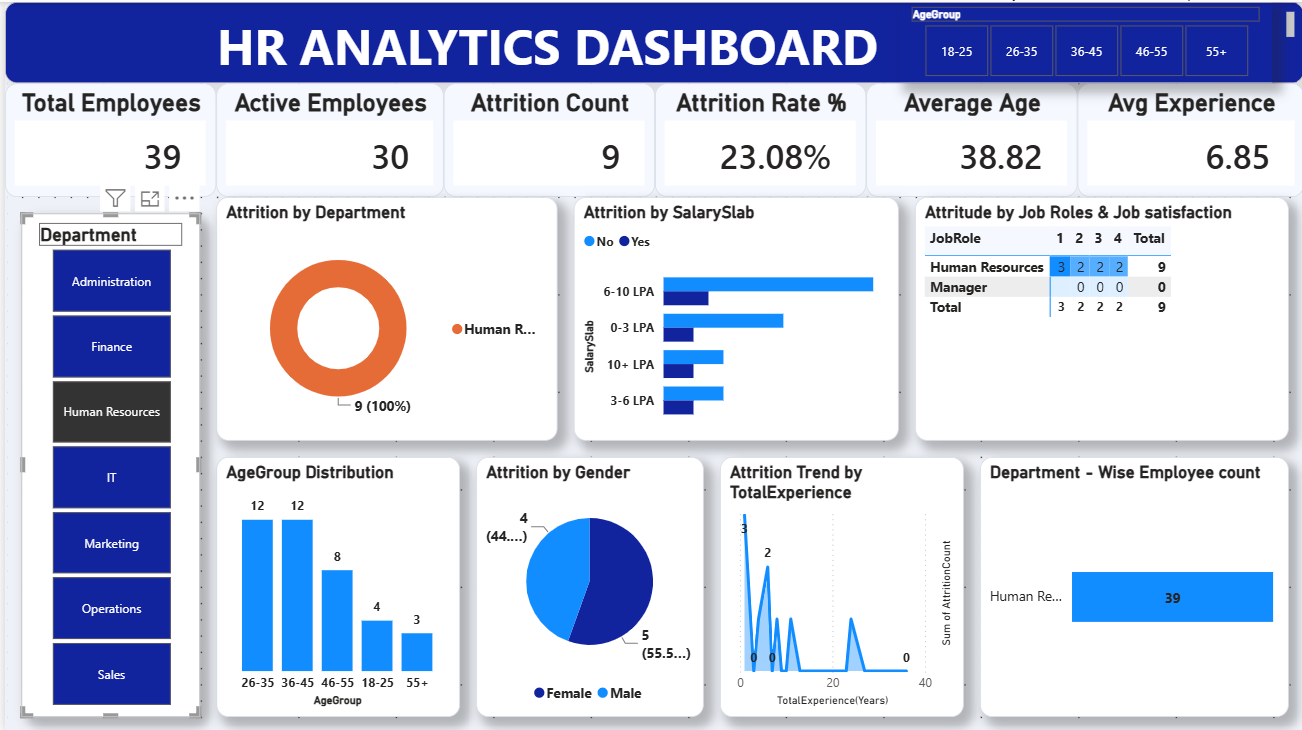

What the dashboard file says about the page in this screenshot:
{"tool":"powerbi","page":{"name":"Page 1","canvas":[1280,720],"ordinal":0},"visuals":[{"type":"textbox","box":[0,0,1280,80],"z":0},{"type":"cardVisual","title":"Total Employees","fields":{"Data":["CountNonNull(HR_Analytics-4.EmpID)"]},"box":[0,80,208,112],"z":1000},{"type":"cardVisual","title":"Active Employees","fields":{"Data":["CountNonNull(HR_Analytics-4.EmployeeCount)"]},"box":[208,80,224,112],"z":2000},{"type":"cardVisual","title":"Attrition Count","fields":{"Data":["Sum(HR_Analytics-4.AttritionCount)"]},"box":[432,80,208,112],"z":3000},{"type":"cardVisual","title":"Attrition Rate %","fields":{"Data":["HR_Analytics-4.Attrition Rate %"]},"box":[640,80,208,112],"z":4000},{"type":"cardVisual","title":"Average Age","fields":{"Data":["Avg(HR_Analytics-4.Age)"]},"box":[848,80,208,112],"z":5000},{"type":"cardVisual","title":"Avg Experience","fields":{"Data":["Avg(HR_Analytics-4.YearsatCompany)"]},"box":[1056,80,224,112],"z":6000},{"type":"donutChart","title":"Attrition by Department","fields":{"Category":["HR_Analytics-4.Department"],"Y":["Sum(HR_Analytics-4.AttritionCount)"]},"box":[208,192,336,240],"z":7000},{"type":"clusteredBarChart","title":"Attrition by SalarySlab","fields":{"Category":["HR_Analytics-4.SalarySlab"],"Y":["CountNonNull(HR_Analytics-4.EmpID)"],"Series":["HR_Analytics-4.Attrition"]},"box":[560,192,320,240],"z":8000},{"type":"pivotTable","title":"Attritude by Job Roles & Job satisfaction","fields":{"Rows":["HR_Analytics-4.JobRole"],"Values":["Sum(HR_Analytics-4.AttritionCount)"],"Columns":["HR_Analytics-4.JobSatisfaction"]},"box":[896,192,368,240],"z":9000},{"type":"columnChart","title":"AgeGroup Distribution","fields":{"Category":["HR_Analytics-4.AgeGroup"],"Y":["Sum(HR_Analytics-4.EmployeeCount)"]},"box":[208,448,240,256],"z":10000},{"type":"pieChart","title":" Attrition by Gender","fields":{"Category":["HR_Analytics-4.Gender"],"Y":["Sum(HR_Analytics-4.AttritionCount)"]},"box":[464,448,224,256],"z":11000},{"type":"areaChart","title":"Attrition Trend by TotalExperience","fields":{"Category":["HR_Analytics-4.TotalExperience(Years)"],"Y2":["Sum(HR_Analytics-4.AttritionCount)"]},"box":[704,448,240,256],"z":12000},{"type":"funnel","title":"Department - Wise Employee count","fields":{"Category":["HR_Analytics-4.Department"],"Y":["CountNonNull(HR_Analytics-4.EmpID)"]},"box":[960,448,304,256],"z":13000},{"type":"slicer","fields":{"Values":["HR_Analytics-4.Department"]},"box":[16,208,176,496],"z":14000},{"type":"slicer","fields":{"Values":["HR_Analytics-4.AgeGroup"]},"box":[880,0,368,80],"z":14001}]}

Visuals, with their boxes in screenshot pixels (x1, y1, x2, y2), scaled from the page's 1280x720 canvas onto the 1302x730 screenshot:
textbox: [0, 0, 1301, 81]
"Total Employees" cardVisual: [0, 81, 212, 195]
"Active Employees" cardVisual: [212, 81, 439, 195]
"Attrition Count" cardVisual: [439, 81, 651, 195]
"Attrition Rate %" cardVisual: [651, 81, 863, 195]
"Average Age" cardVisual: [863, 81, 1074, 195]
"Avg Experience" cardVisual: [1074, 81, 1301, 195]
"Attrition by Department" donutChart: [212, 195, 553, 438]
"Attrition by SalarySlab" clusteredBarChart: [570, 195, 895, 438]
"Attritude by Job Roles & Job satisfaction" pivotTable: [911, 195, 1286, 438]
"AgeGroup Distribution" columnChart: [212, 454, 456, 714]
" Attrition by Gender" pieChart: [472, 454, 700, 714]
"Attrition Trend by TotalExperience" areaChart: [716, 454, 960, 714]
"Department - Wise Employee count" funnel: [976, 454, 1286, 714]
slicer - HR_Analytics-4.Department: [16, 211, 195, 714]
slicer - HR_Analytics-4.AgeGroup: [895, 0, 1269, 81]
